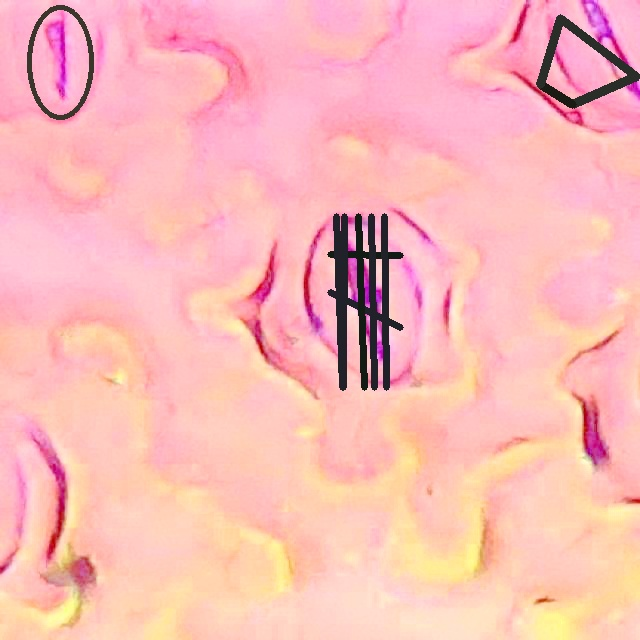open: (327, 213, 403, 390), (536, 14, 639, 108), (27, 5, 93, 120)
